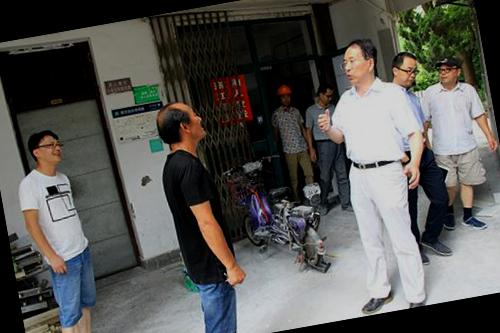no_helmet: (152, 98, 205, 156), (337, 32, 379, 85), (24, 125, 70, 171), (385, 45, 426, 89), (432, 52, 464, 87), (316, 78, 338, 108)
